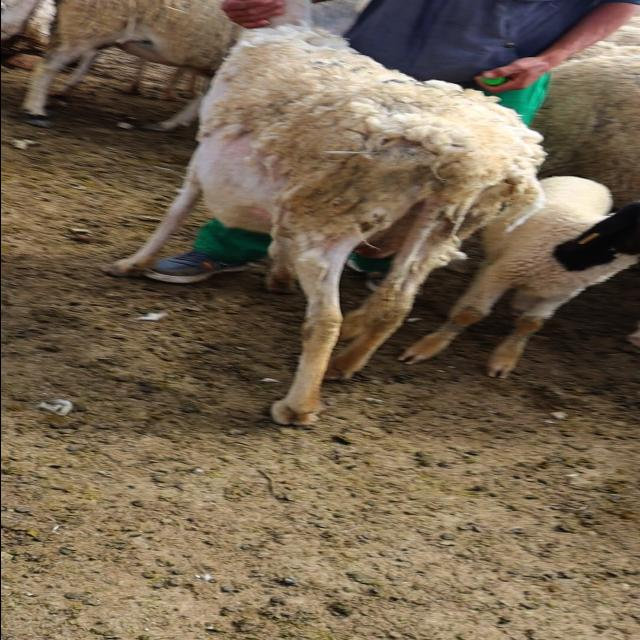Score_2: (105, 24, 545, 425)
